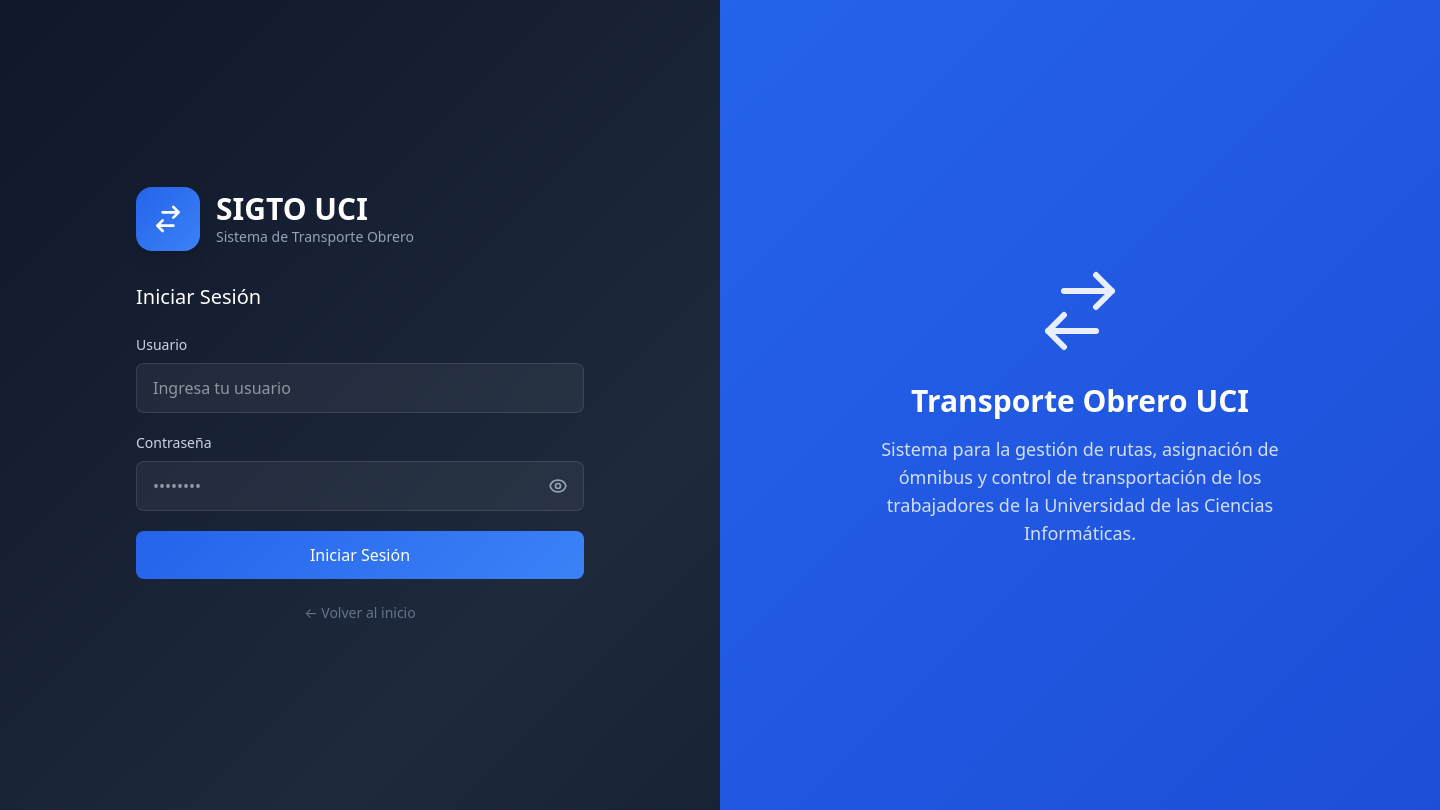
Login › muestra mensaje de error cuando login retorna error
This screenshot has width=1440, height=810.
Type "bad" into the field with placeholder "Ingresa tu usuario" at (360, 388), box left=136, top=363, right=584, bottom=413
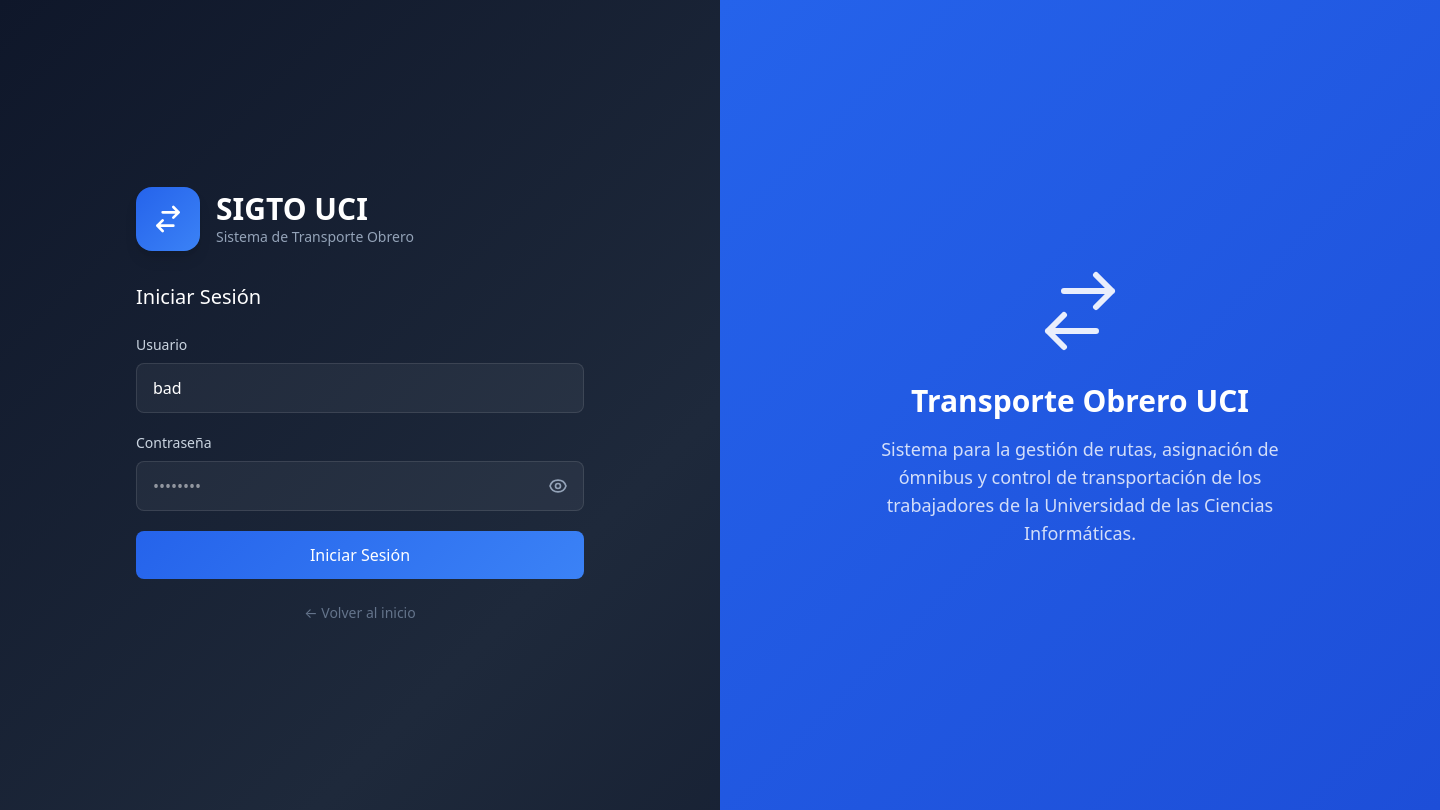
Type "wrong" into the password field with placeholder "••••••••" at (360, 486), box left=136, top=461, right=584, bottom=511
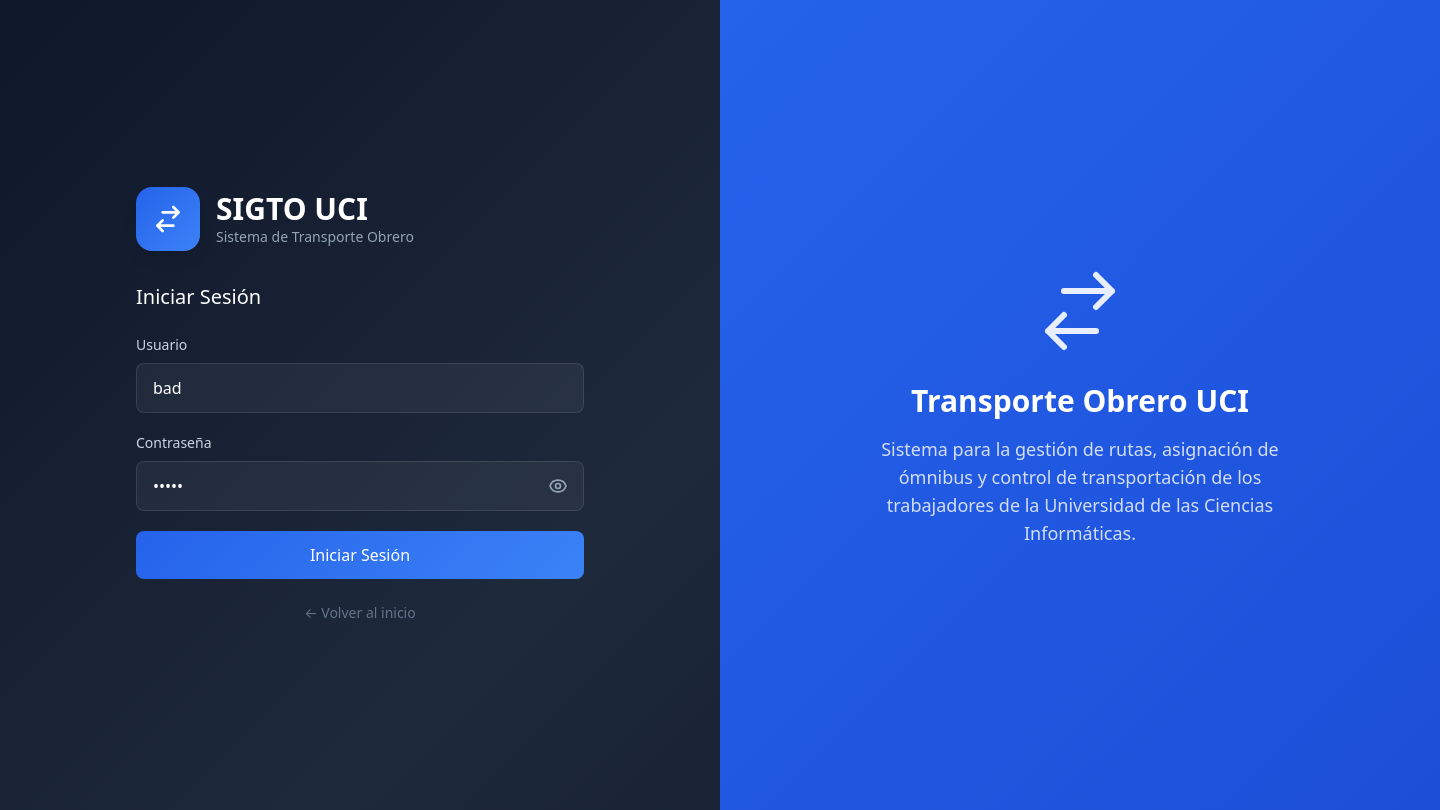
Click the button "Iniciar Sesión" at (360, 555), box left=136, top=531, right=584, bottom=579
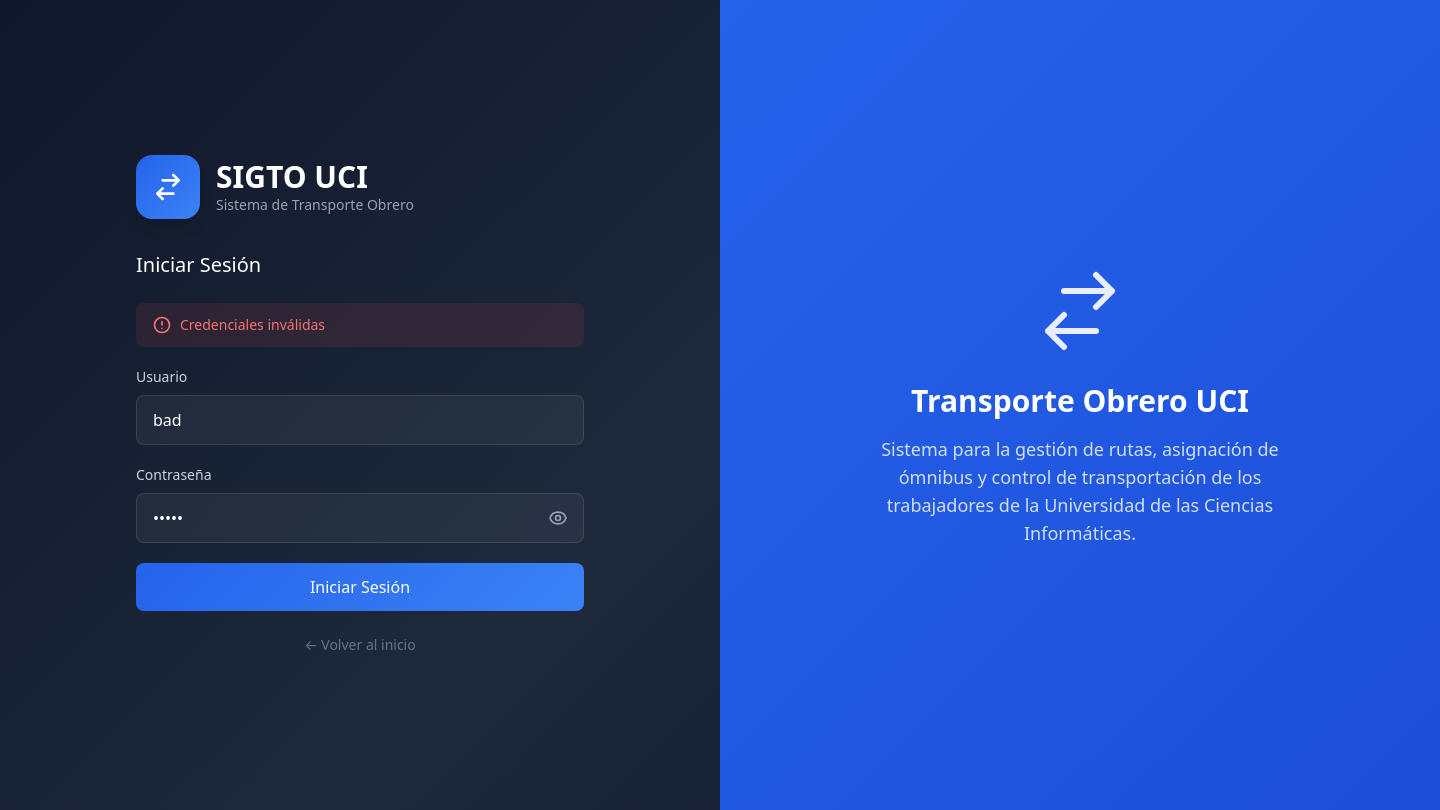
Result: the text "Credenciales inválidas" is shown at left=136, top=303, right=584, bottom=347
